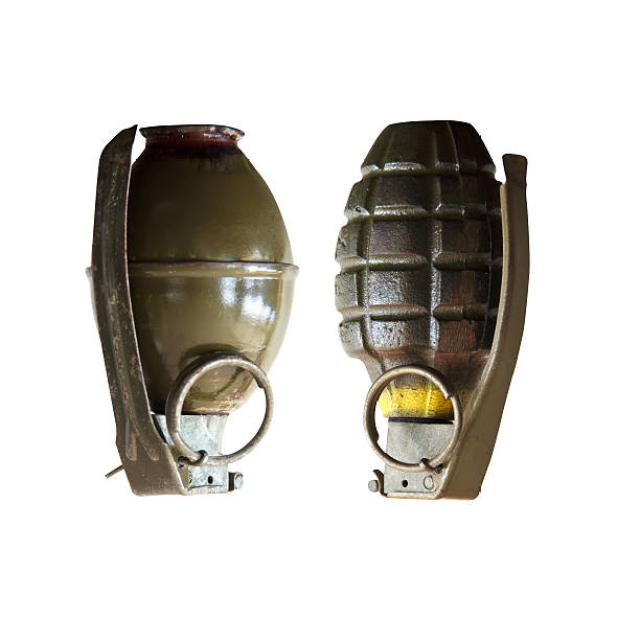grenade: (83, 112, 305, 505), (327, 112, 539, 517)
